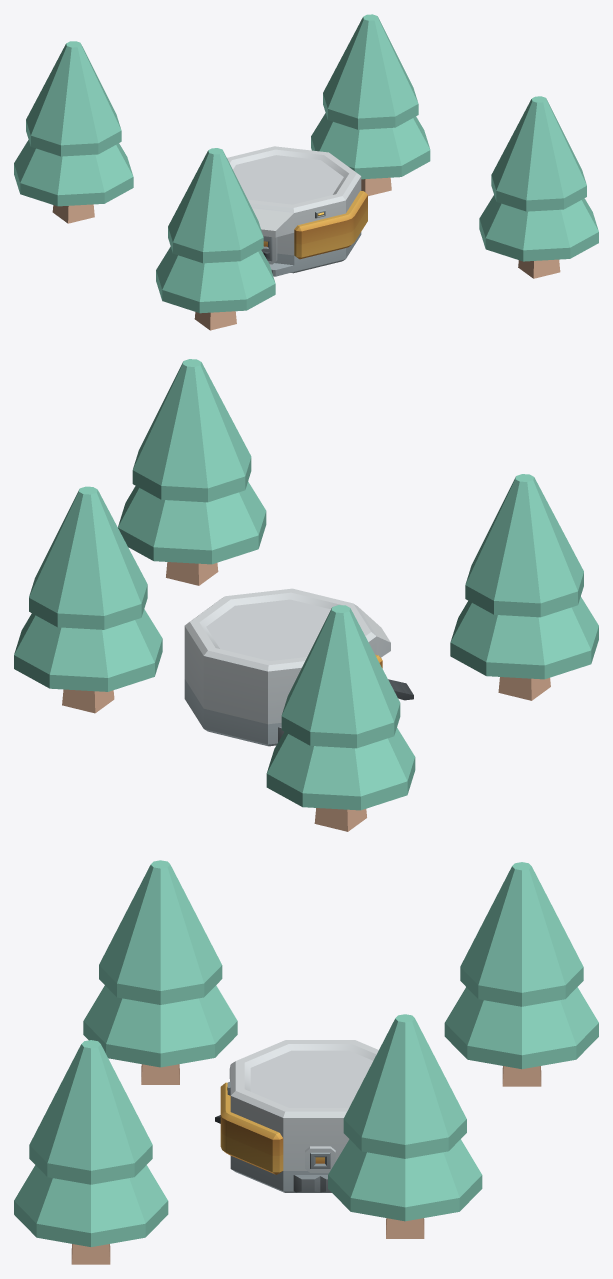
Rendered from ArtificialForest.glb.
3 renders of one model, top to bottom at view 1: azimuth 30°, elevation 25°; view 2: azimuth 150°, elevation 25°; view 3: azimuth 270°, elevation 25°, orthographic. The views are drawn at different scales.
Parts seen in each view (by area): view 1: detail_treeLarge.004, detail_treeLarge.001, detail_treeLarge.003, detail_treeLarge.002, basemodule_A_Cylinder.001; view 2: detail_treeLarge.003, detail_treeLarge.002, detail_treeLarge.004, detail_treeLarge.001, basemodule_A_Cylinder.001; view 3: detail_treeLarge.001, detail_treeLarge.003, detail_treeLarge.002, detail_treeLarge.004, basemodule_A_Cylinder.001.
Boxes of the visible parts, x1,y1,x2,y2 form: detail_treeLarge.004: (156,148,275,330); detail_treeLarge.001: (479,96,598,278); detail_treeLarge.003: (14,41,133,223); detail_treeLarge.002: (311,14,430,196); basemodule_A_Cylinder.001: (227,146,367,276); detail_treeLarge.003: (266,605,415,831); detail_treeLarge.002: (14,486,162,713); detail_treeLarge.004: (450,474,598,700); detail_treeLarge.001: (118,359,266,585); basemodule_A_Cylinder.001: (184,588,413,746); detail_treeLarge.001: (14,1040,168,1264); detail_treeLarge.003: (444,862,598,1086); detail_treeLarge.002: (328,1014,482,1238); detail_treeLarge.004: (83,860,237,1084); basemodule_A_Cylinder.001: (215,1040,378,1192).
Bounding box in the file's own units: 1.88 × 0.76 × 1.9.
Materials: 3 (1 with a texture image).
